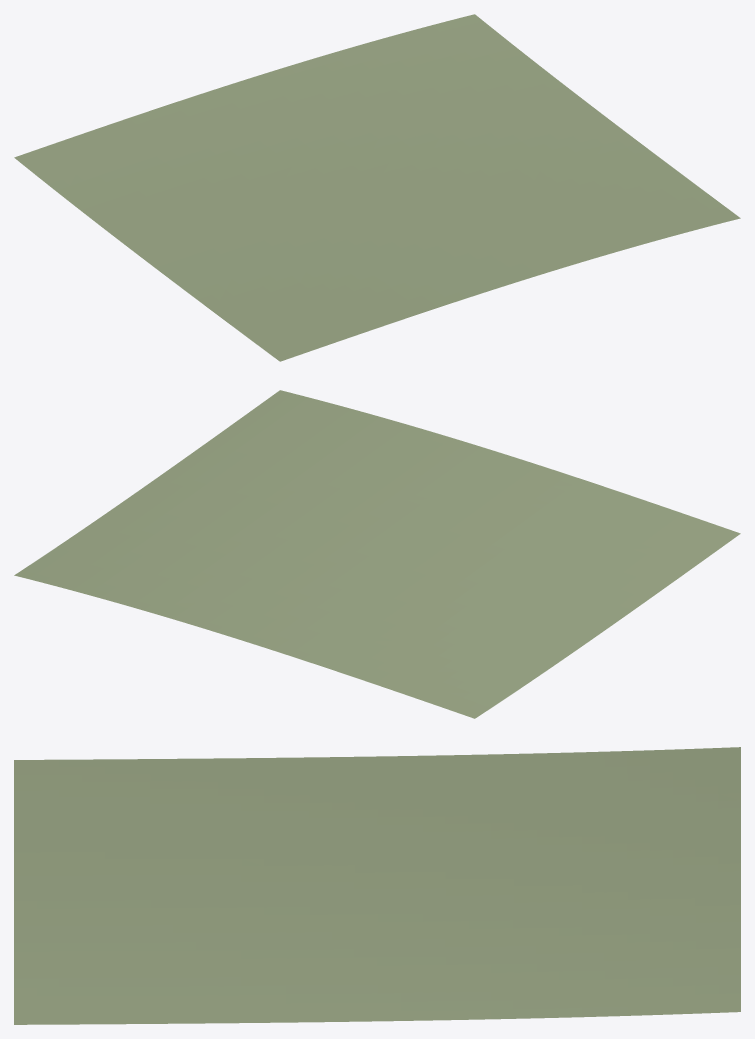
File: valley-10-4.glb
The picture shows the model from 3 angles, top to bottom: view 1: azimuth 30°, elevation 25°; view 2: azimuth 150°, elevation 25°; view 3: azimuth 270°, elevation 25°; orthographic projection. The views are drawn at different scales.
Parts seen in each view (by area): view 1: valley-10-4; view 2: valley-10-4; view 3: valley-10-4.
Part boxes in pixels (x1,y1,x2,y2): valley-10-4: (14, 14, 740, 361); valley-10-4: (14, 390, 740, 718); valley-10-4: (14, 747, 740, 1024).
Size of the model in its own units: 256 by 21.46 by 256.
